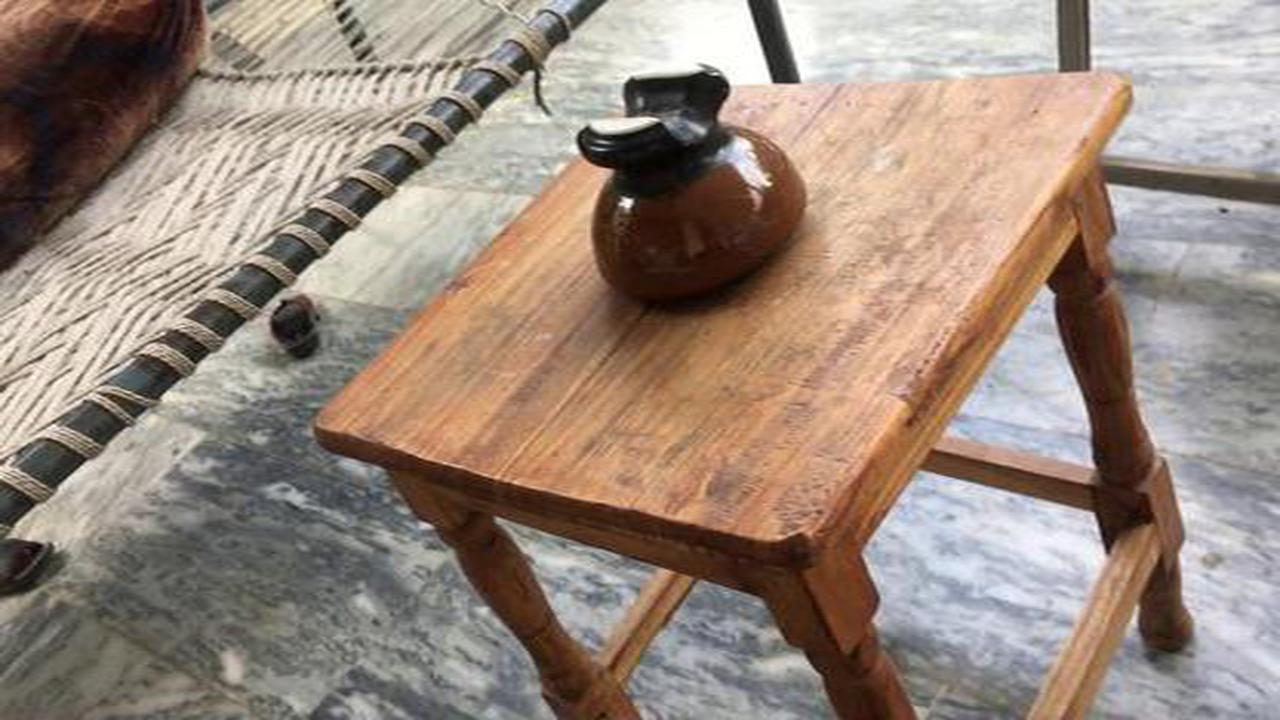insulator_pin: (561, 49, 819, 329)
